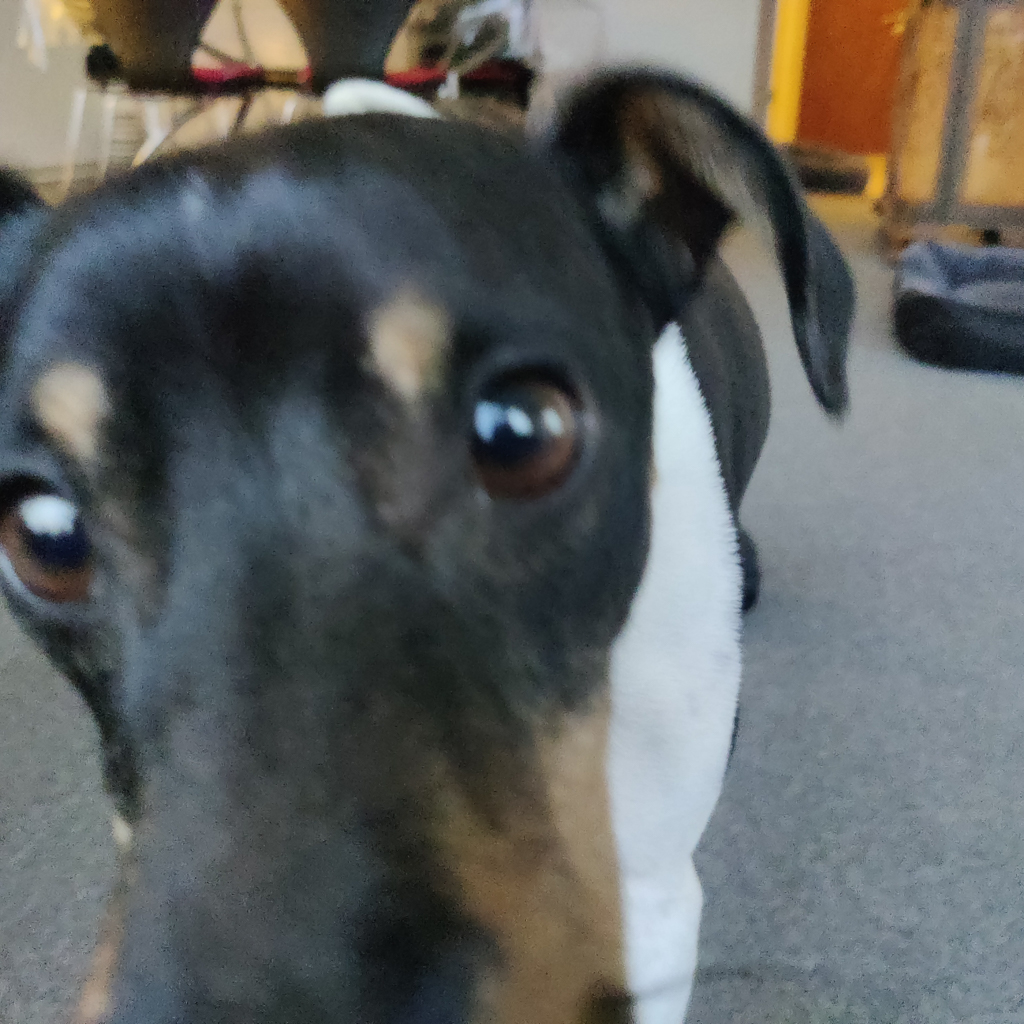Dog: (0, 47, 873, 1024)
